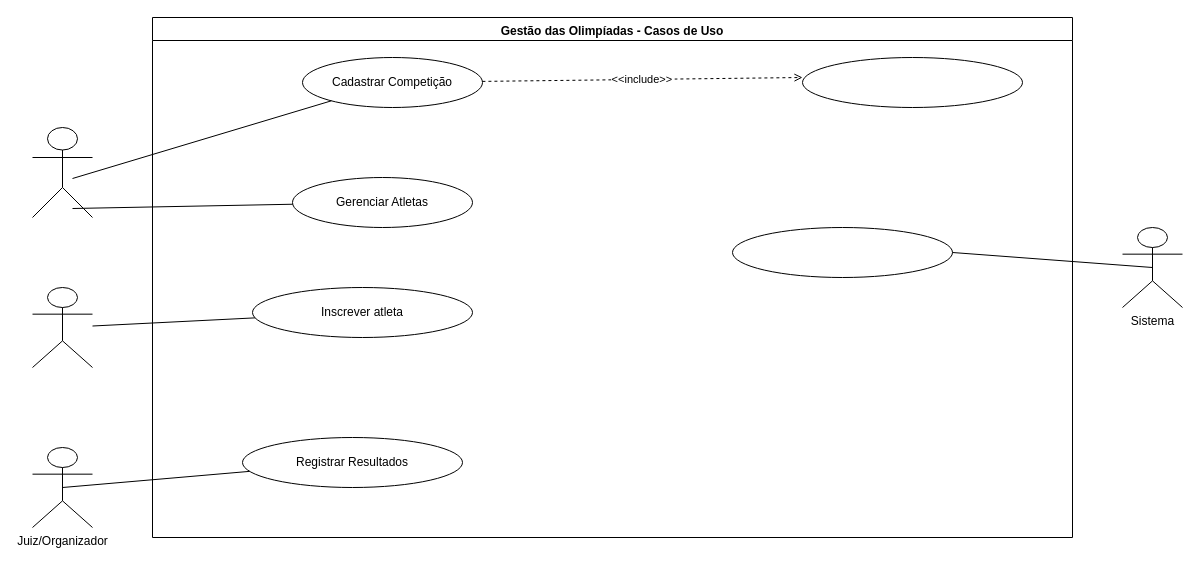
Image size: 1200x566. Some labels were removed from this diagram. Here are the shapes that lost their labels. From the top down, the box of each, then its label:
(802, 56, 1022, 108): Alocar Local para Competição
(32, 126, 92, 218): Administrador
(732, 226, 952, 278): Gerar Relatórios
(32, 286, 92, 368): Atleta
